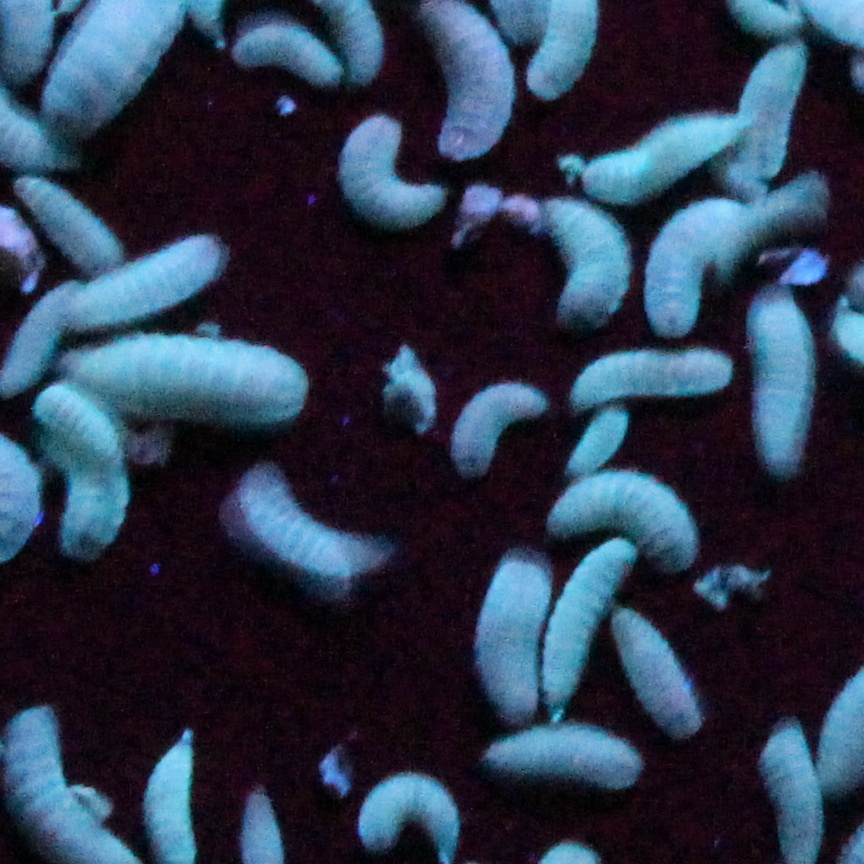larve: (62, 333, 306, 430), (243, 464, 394, 579), (591, 108, 747, 203), (74, 233, 225, 328), (557, 530, 630, 723), (47, 386, 128, 555), (330, 113, 443, 230), (555, 472, 694, 567), (540, 196, 635, 323), (752, 294, 816, 477), (479, 555, 547, 723), (616, 613, 706, 735), (645, 189, 716, 340), (484, 721, 635, 791), (13, 177, 121, 272), (574, 352, 735, 413), (452, 382, 545, 472), (740, 47, 801, 184), (360, 774, 455, 860), (235, 30, 347, 91), (567, 403, 630, 482)
